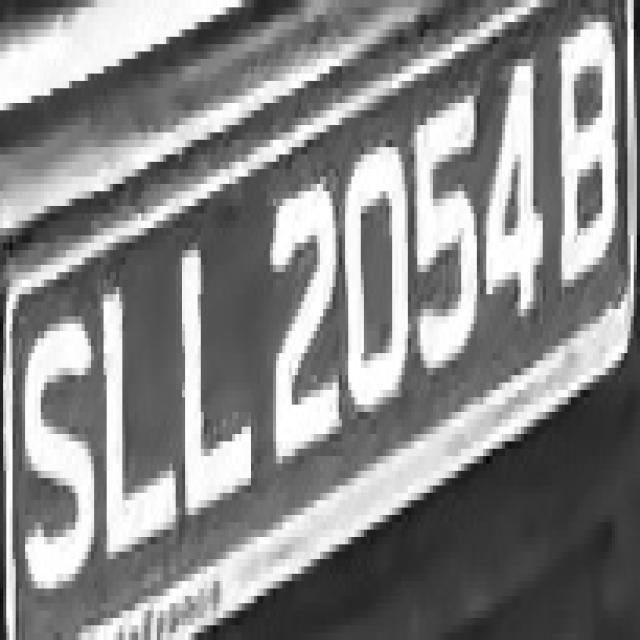0: (330, 140, 414, 426)
2: (264, 177, 352, 508)
4: (477, 44, 555, 361)
5: (405, 96, 486, 404)
B: (556, 0, 628, 309)
L: (175, 213, 264, 544), (91, 243, 182, 559)
S: (10, 280, 100, 603)
